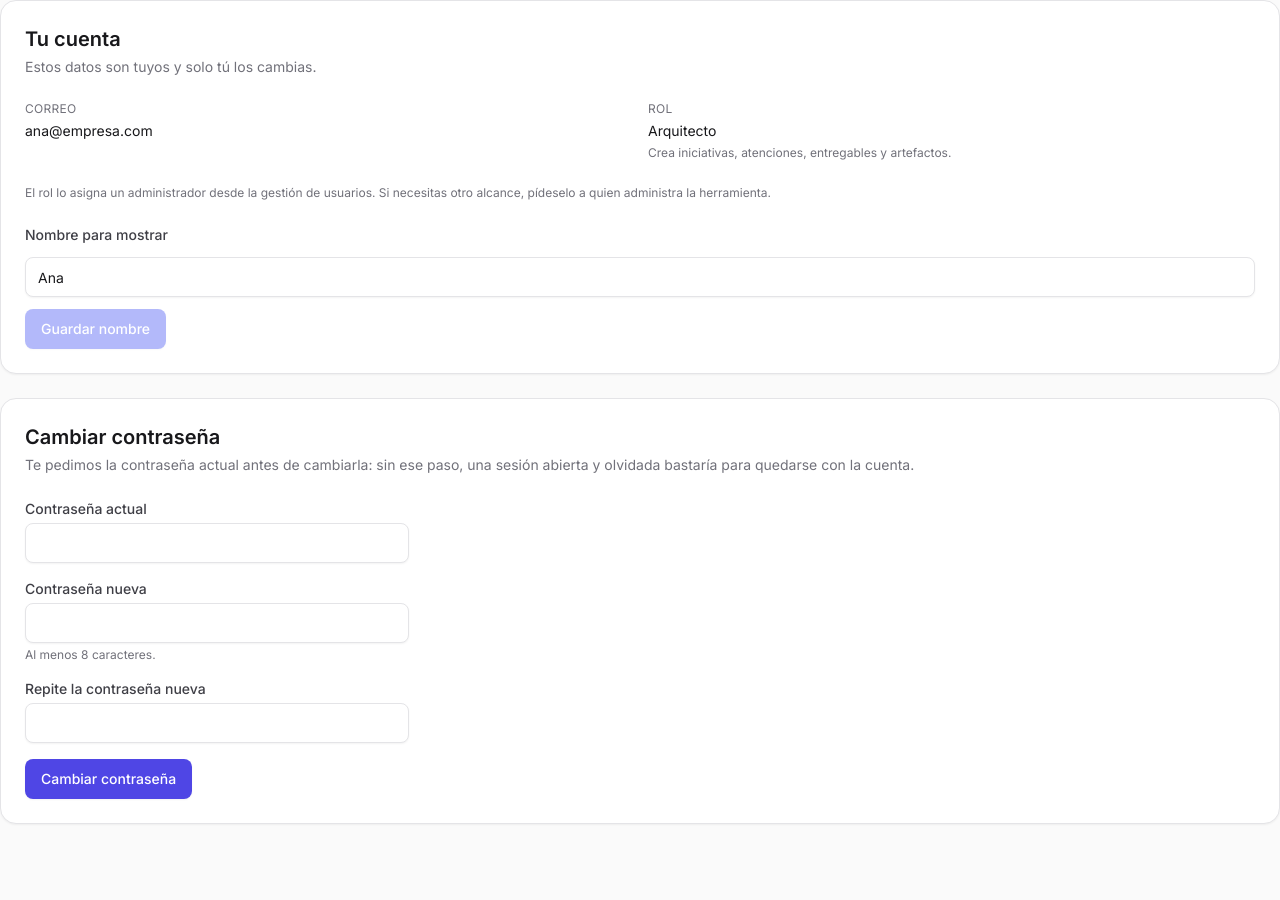
Test: changing the password › surfaces the reason the change failed
Step 1. Type "equivocada" into the password field labelled "Contraseña actual" → coordinates (217, 543), box [25, 523, 409, 563]
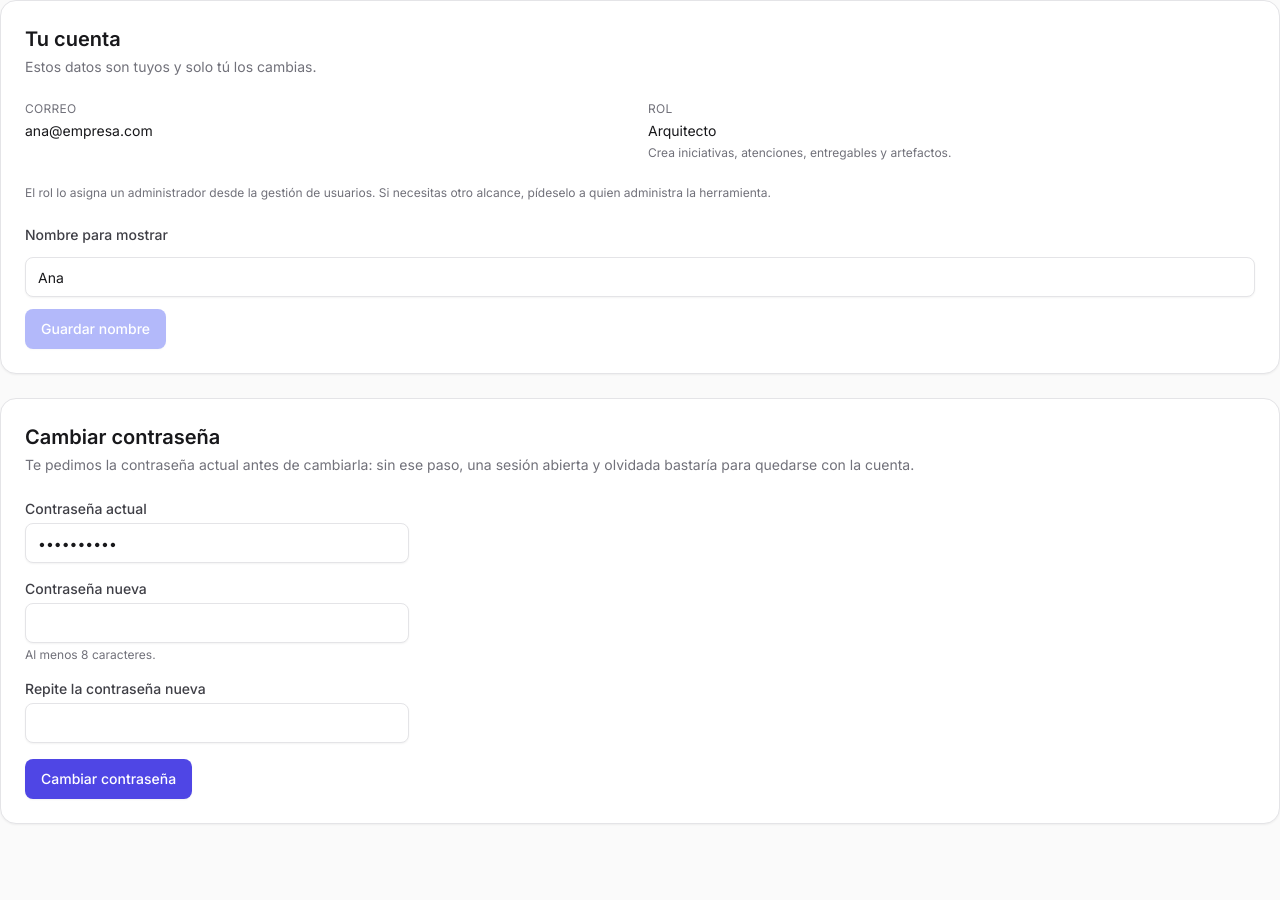
Step 2. Type "siguiente-456" into the password field labelled "Contraseña nueva" → coordinates (217, 623), box [25, 603, 409, 643]
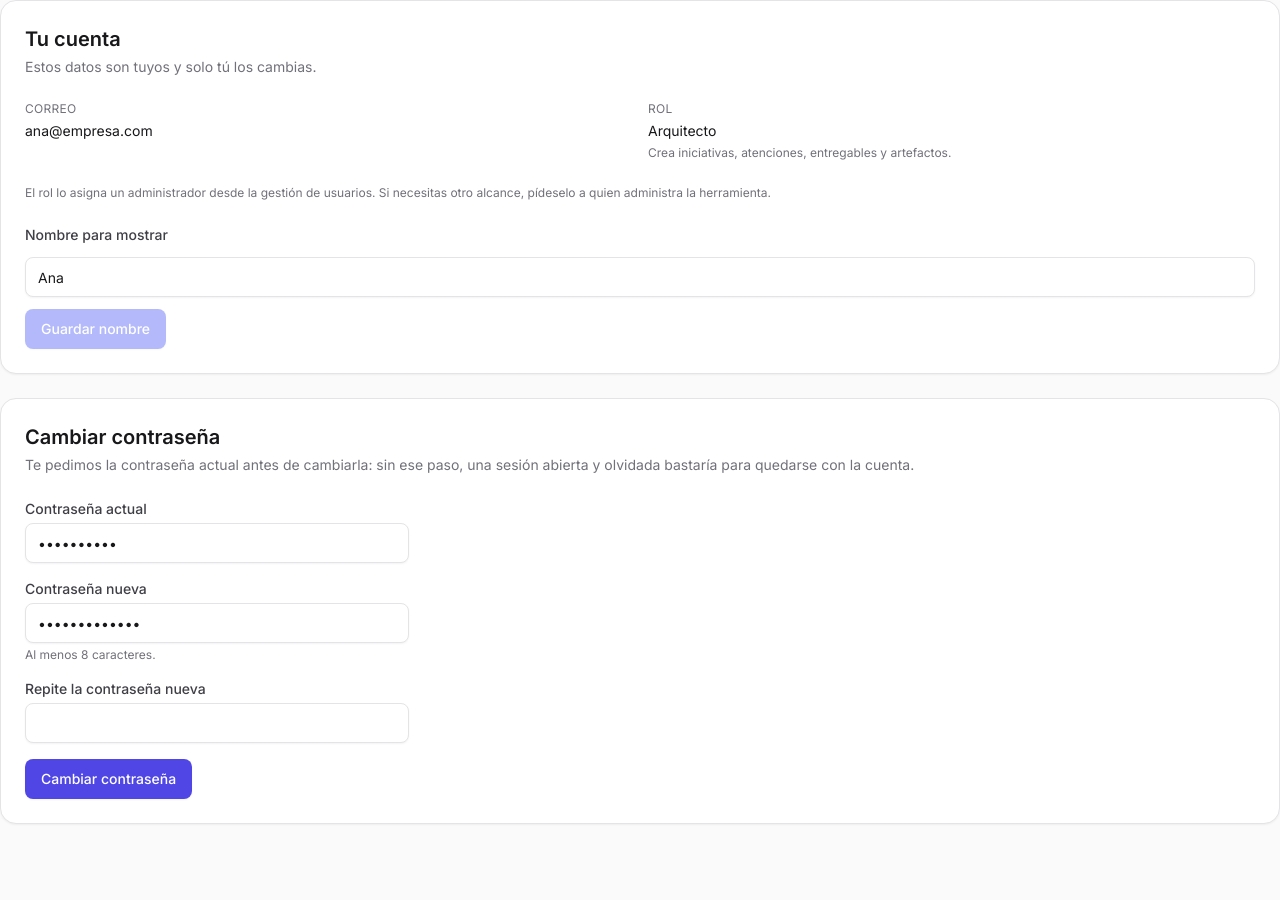
Step 3. Type "siguiente-456" into the password field labelled "Repite la contraseña nueva" → coordinates (217, 723), box [25, 703, 409, 743]
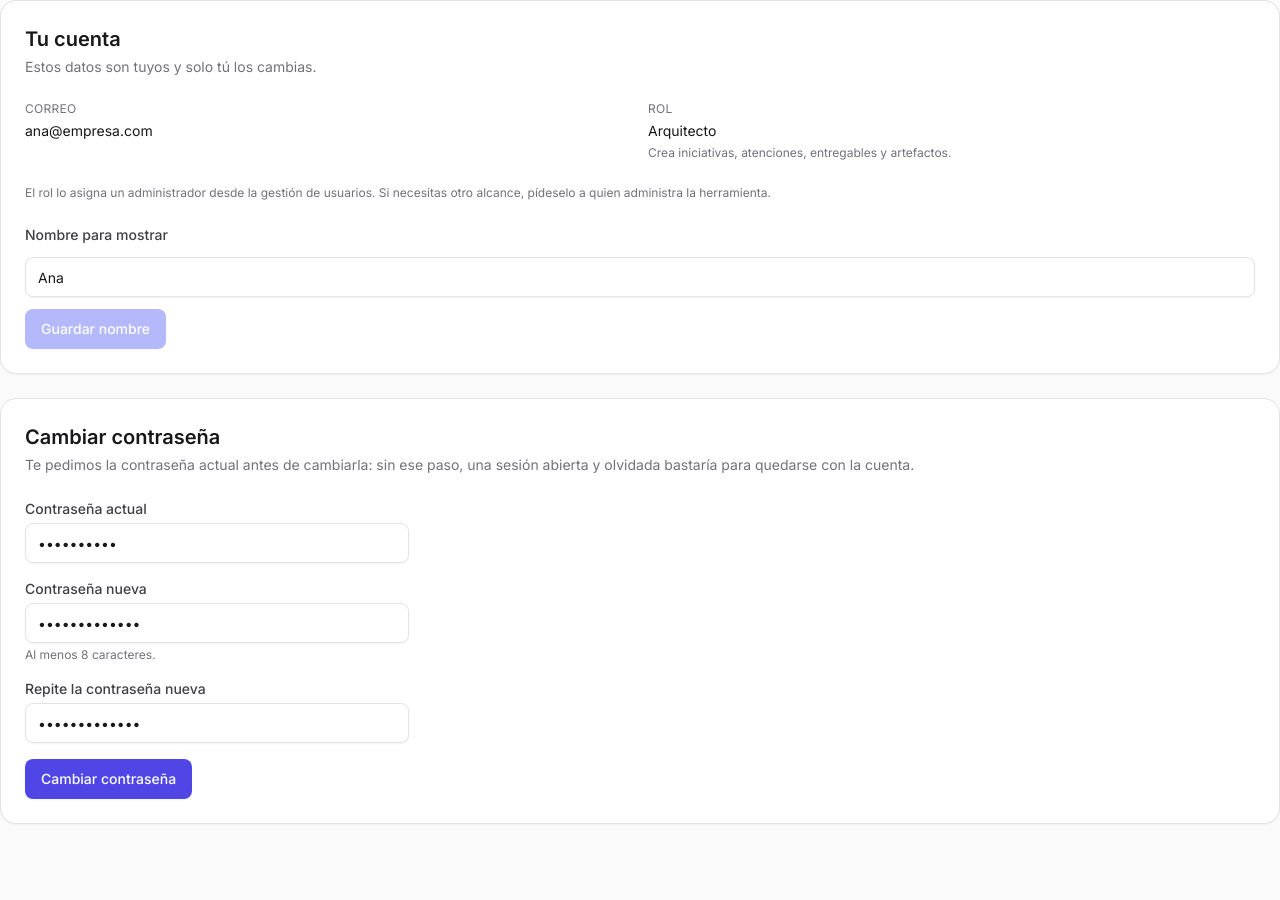
Step 4. Click the button "Cambiar contraseña" → coordinates (109, 779), box [25, 759, 192, 799]
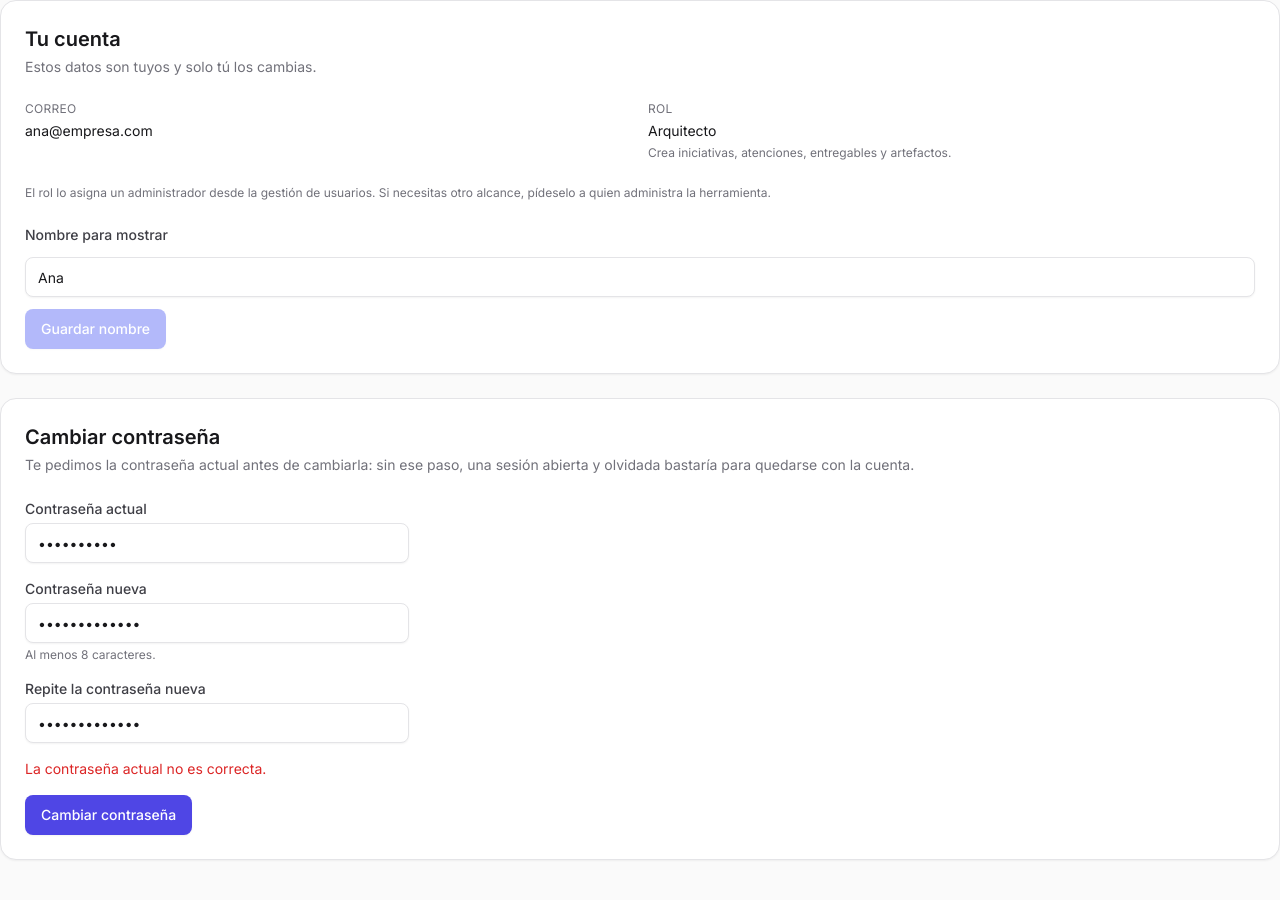
Expected: the message reads "La contraseña actual no es correcta.", [25, 760, 266, 777]
